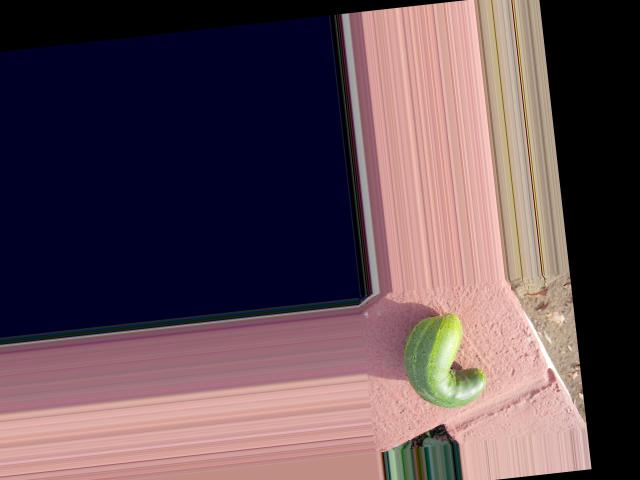cucumber: (399, 310, 490, 412)
